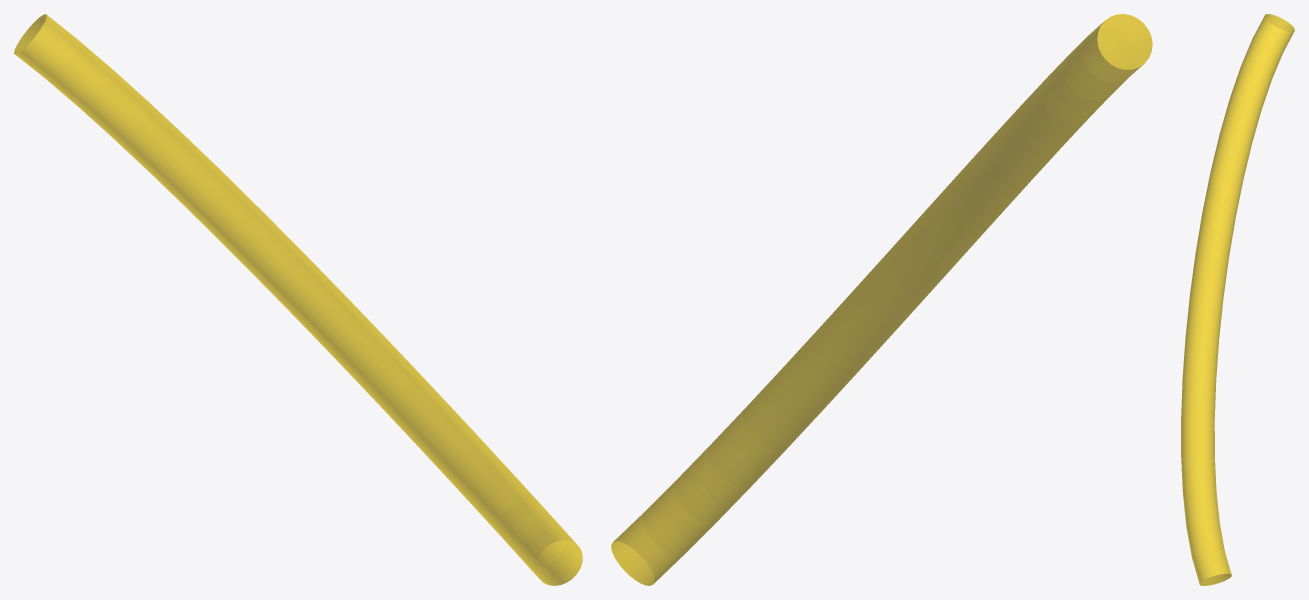
The model's file is Event_75125125_track_96.fbx.
3 views of the same model, side by side, from view 1: azimuth 30°, elevation 25°; view 2: azimuth 150°, elevation 25°; view 3: azimuth 270°, elevation 25° (orthographic). The views are drawn at different scales.
Visible parts, largest first — view 1: Model; view 2: Model; view 3: Model.
Part boxes in pixels (x1,y1,x2,y2): Model: (14,14,582,585); Model: (611,14,1152,585); Model: (1181,14,1294,585).
Bounding box in the file's own units: 0.4641 × 0.5543 × 0.1348.
